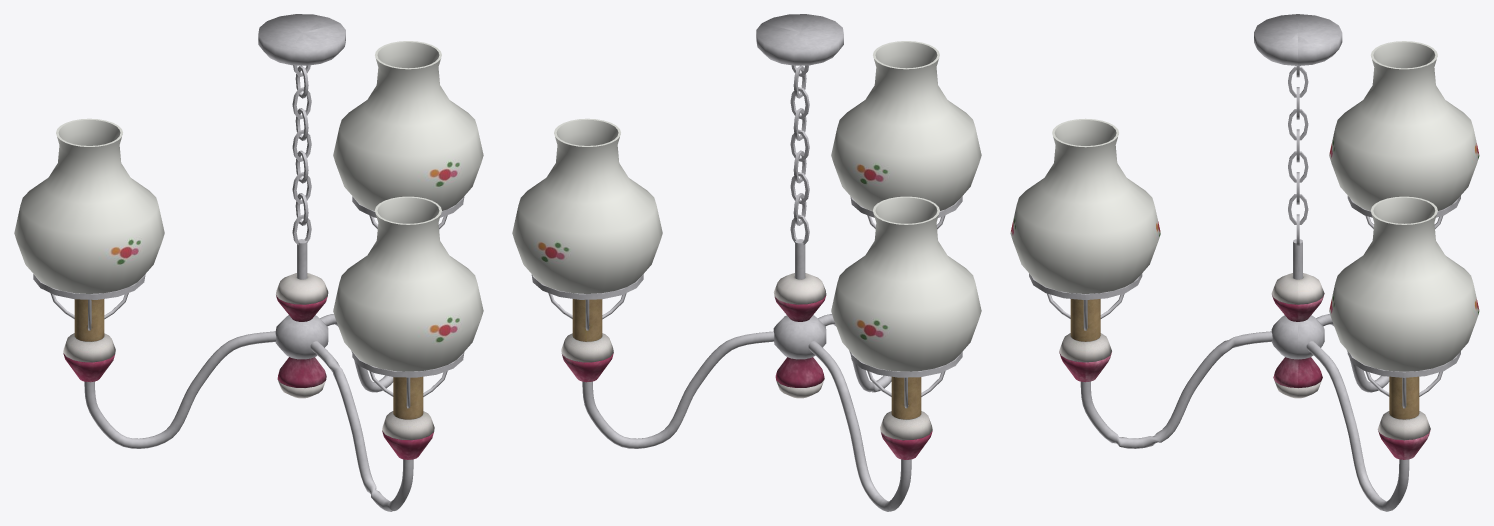
The model's file is lamp_nickel_3_web.glb.
3 renders of one model, left to right at view 1: azimuth 30°, elevation 25°; view 2: azimuth 150°, elevation 25°; view 3: azimuth 270°, elevation 25°, orthographic.
Visible parts, largest first — view 1: Glass_Shade_3, Glass_Shade_2, Glass_Shade_1, Chrome_Nickel, LampNickel3_Body; view 2: Glass_Shade_2, Glass_Shade_1, Glass_Shade_3, Chrome_Nickel, LampNickel3_Body; view 3: Glass_Shade_1, Glass_Shade_3, Glass_Shade_2, Chrome_Nickel, LampNickel3_Body.
Part boxes in pixels (box(x1,y1,x2,y2)): Glass_Shade_3: box(333, 196, 483, 371); Glass_Shade_2: box(14, 118, 164, 293); Glass_Shade_1: box(333, 41, 483, 210); Chrome_Nickel: box(33, 14, 464, 511); LampNickel3_Body: box(63, 273, 434, 459); Glass_Shade_2: box(831, 196, 981, 371); Glass_Shade_1: box(512, 118, 662, 293); Glass_Shade_3: box(831, 41, 981, 210); Chrome_Nickel: box(531, 14, 962, 511); LampNickel3_Body: box(561, 273, 932, 459); Glass_Shade_1: box(1329, 196, 1479, 371); Glass_Shade_3: box(1010, 118, 1160, 293); Glass_Shade_2: box(1329, 41, 1479, 210); Chrome_Nickel: box(1029, 14, 1460, 511); LampNickel3_Body: box(1059, 273, 1430, 459).
Bounding box in the file's own units: 0.5857 × 0.5182 × 0.53.
Materials: 3 (3 with a texture image).
